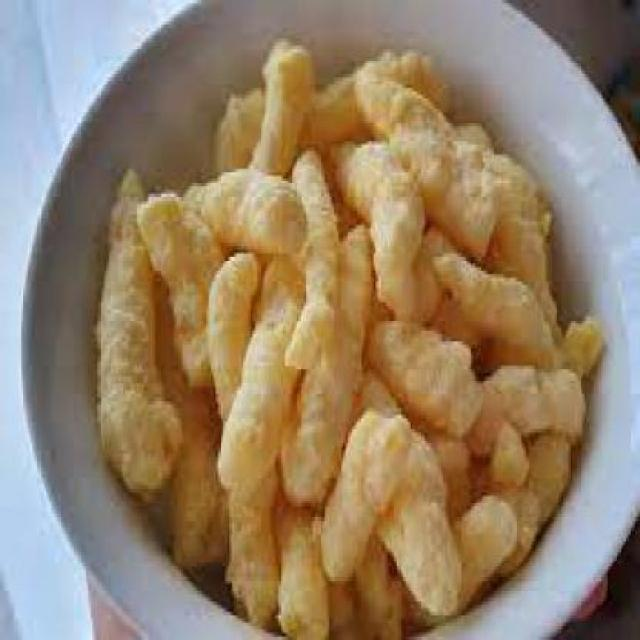Chips packaged: (114, 83, 580, 594)
